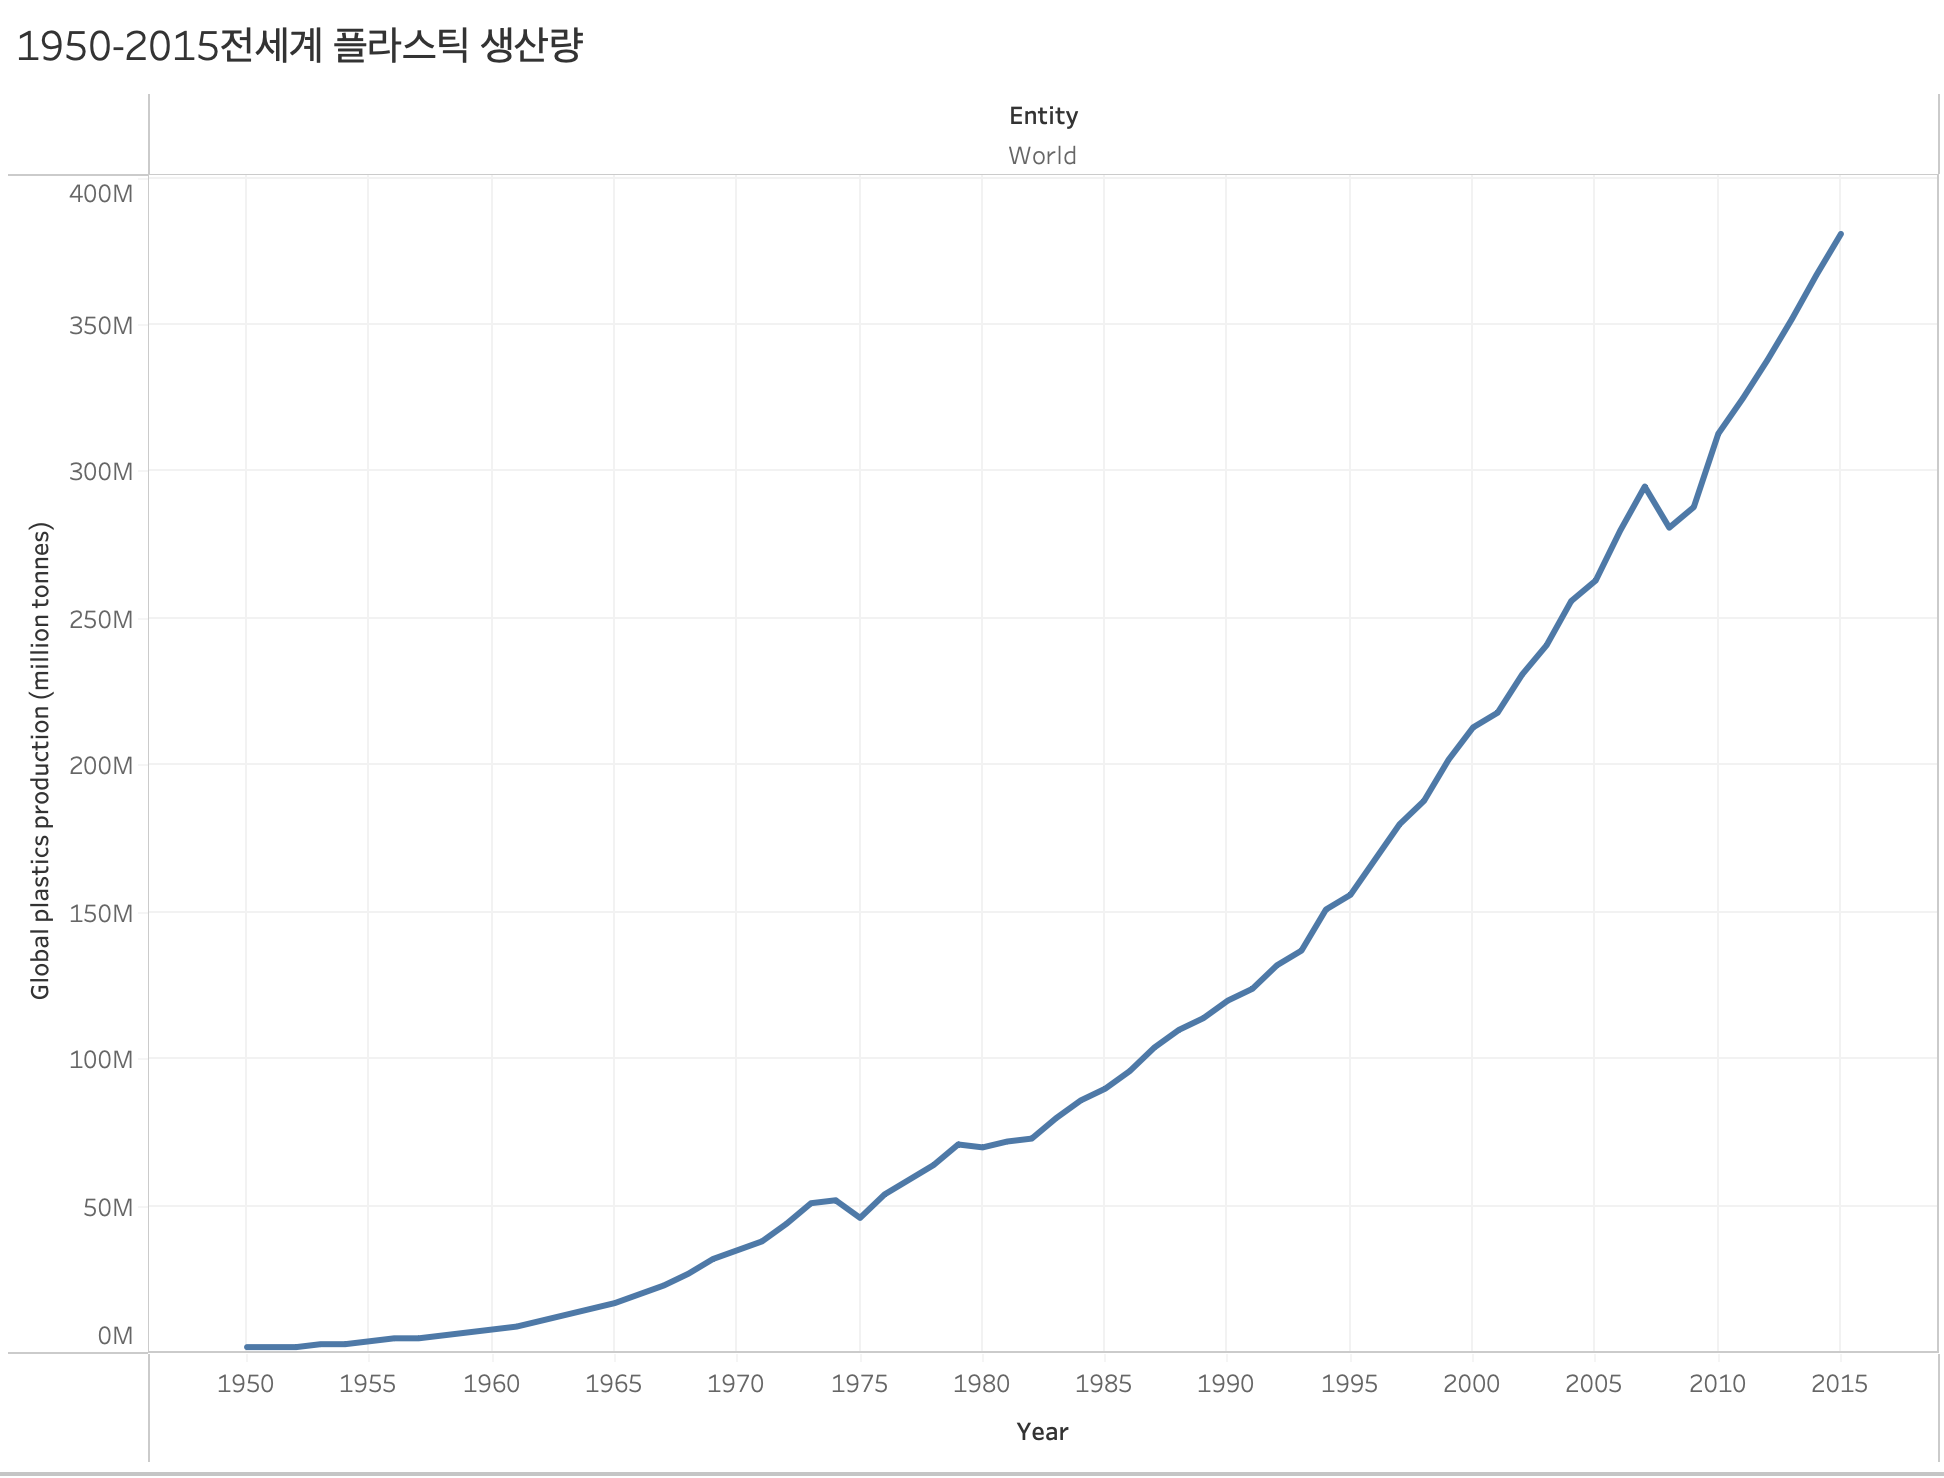

This screenshot's page, from the dashboard's own definition file:
{"tool":"tableau","page":{"name":"대시보드 2","canvas":[1000,1000],"units":"permille","ordinal":0},"visuals":[{"type":"worksheet","title":"1950-2015전세계 플라스틱 생산량","mark":"Automatic","rows":["Global plastics production (million tonnes)"],"cols":["Entity","Year"],"box":[7.6,10.2,984.8,979.5]}]}

Visuals, with their boxes on the dashboard's canvas, which has no fixed pixel size, in thousandths of its width and height (x1, y1, x2, y2). These are canvas units, not pixel positions in the 1944x1478 screenshot, which may show the page scaled, cropped or inside an application window:
"1950-2015전세계 플라스틱 생산량" worksheet: [8, 10, 992, 990]
